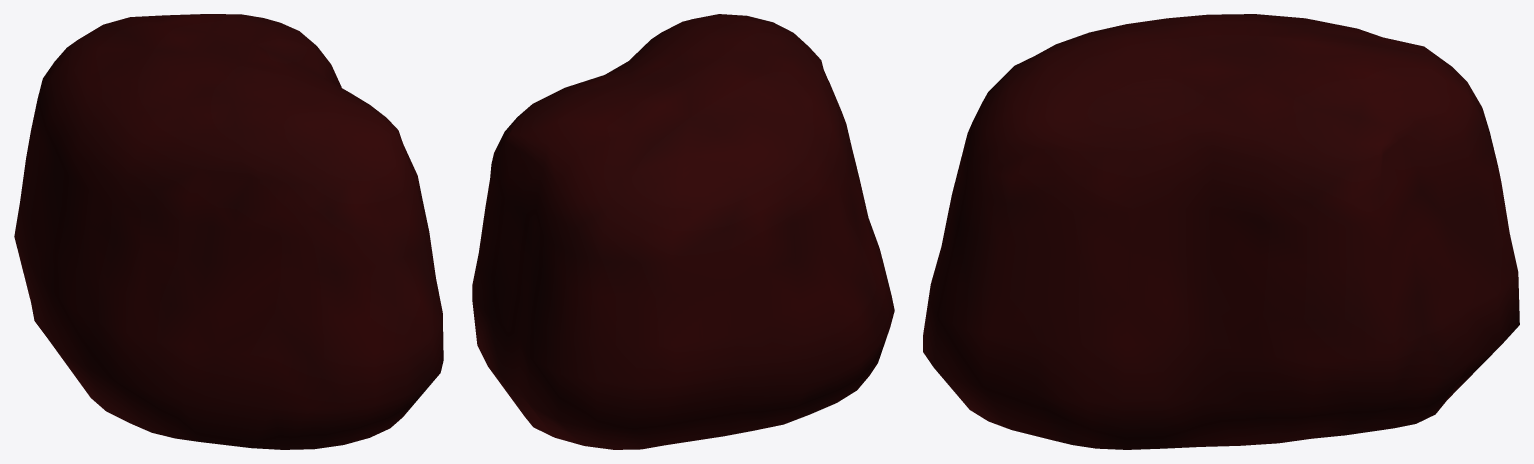
File: geology-landforms-greenhilltiny_v3.fbx
3 renders of one model, left to right at view 1: azimuth 30°, elevation 25°; view 2: azimuth 150°, elevation 25°; view 3: azimuth 270°, elevation 25°, orthographic. The views are drawn at different scales.
Parts seen in each view (by area): view 1: GreenHillTiny_v3; view 2: GreenHillTiny_v3; view 3: GreenHillTiny_v3.
Boxes of the visible parts, x1,y1,x2,y2 form: GreenHillTiny_v3: (14,14,443,449); GreenHillTiny_v3: (472,14,894,449); GreenHillTiny_v3: (923,14,1519,449).
Bounding box in the file's own units: 17.3 × 15.3 × 24.46.
